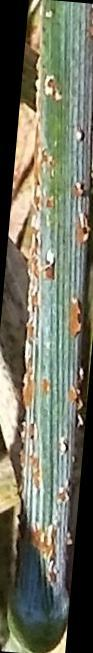Wheat: (38, 8, 85, 277), (33, 291, 72, 564)
